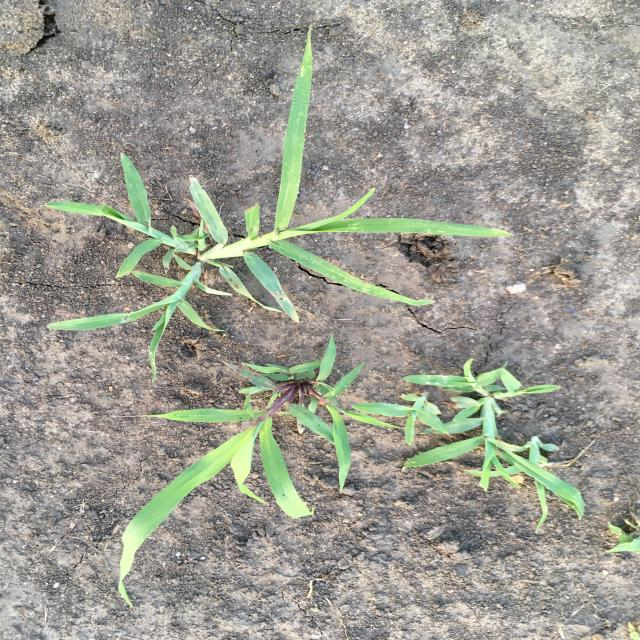Goosegrass: (42, 21, 514, 384), (109, 332, 403, 610), (402, 357, 586, 536), (351, 391, 453, 448)
